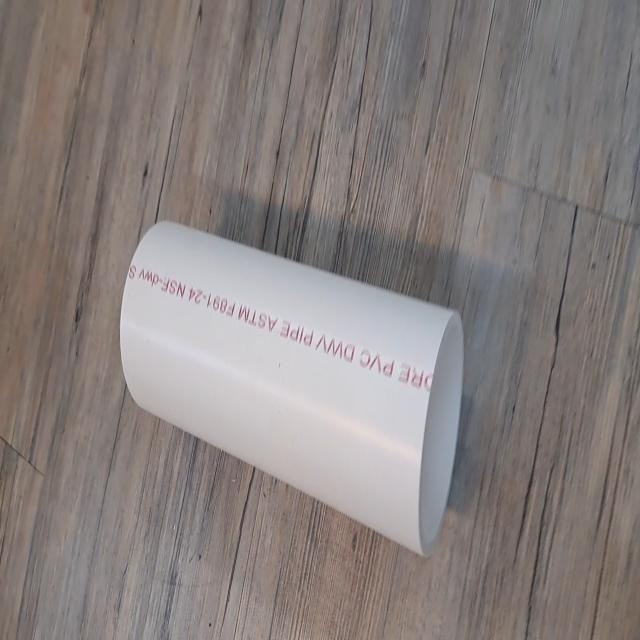CORAL: (118, 215, 468, 559)
